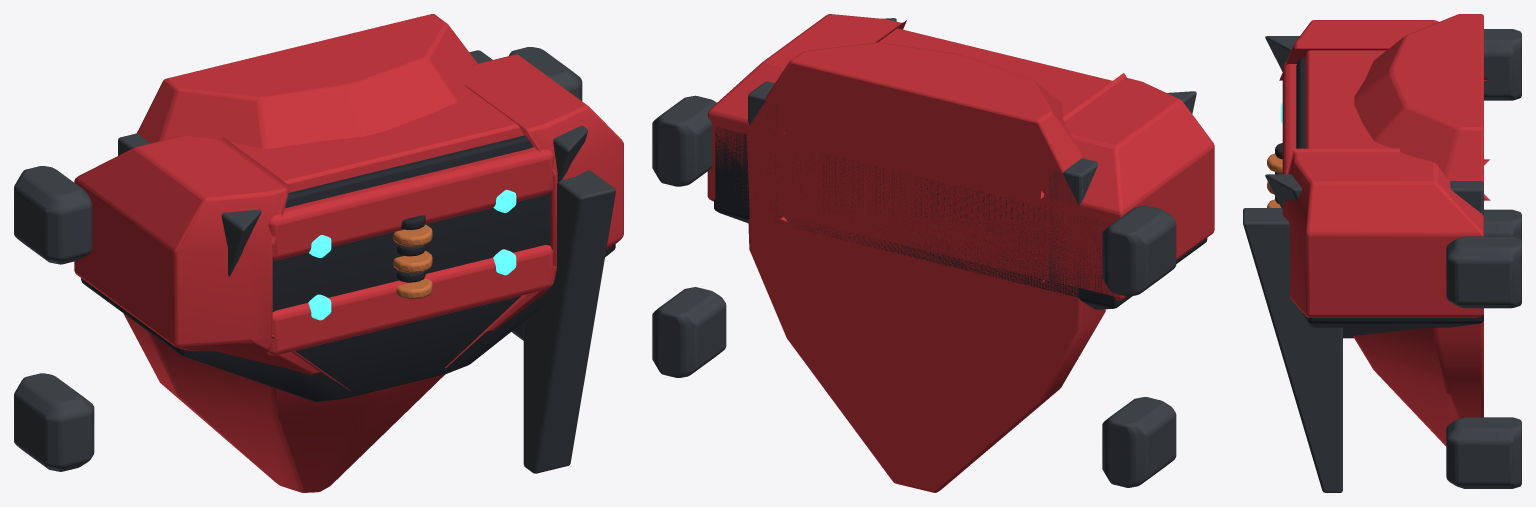
The model's file is LowerArmFront_Set06_Voltaic.fbx.
3 views of the same model, side by side, from view 1: azimuth 30°, elevation 25°; view 2: azimuth 150°, elevation 25°; view 3: azimuth 270°, elevation 25° (orthographic). The views are drawn at different scales.
Parts seen in each view (by area): view 1: LowerArmFront_Set06_Voltaic; view 2: LowerArmFront_Set06_Voltaic; view 3: LowerArmFront_Set06_Voltaic.
Part boxes in pixels (<box>): LowerArmFront_Set06_Voltaic: <box>14,14,623,492</box>; LowerArmFront_Set06_Voltaic: <box>652,14,1214,492</box>; LowerArmFront_Set06_Voltaic: <box>1243,14,1521,492</box>.
Bounding box in the file's own units: 0.43 × 0.33 × 0.2214.
